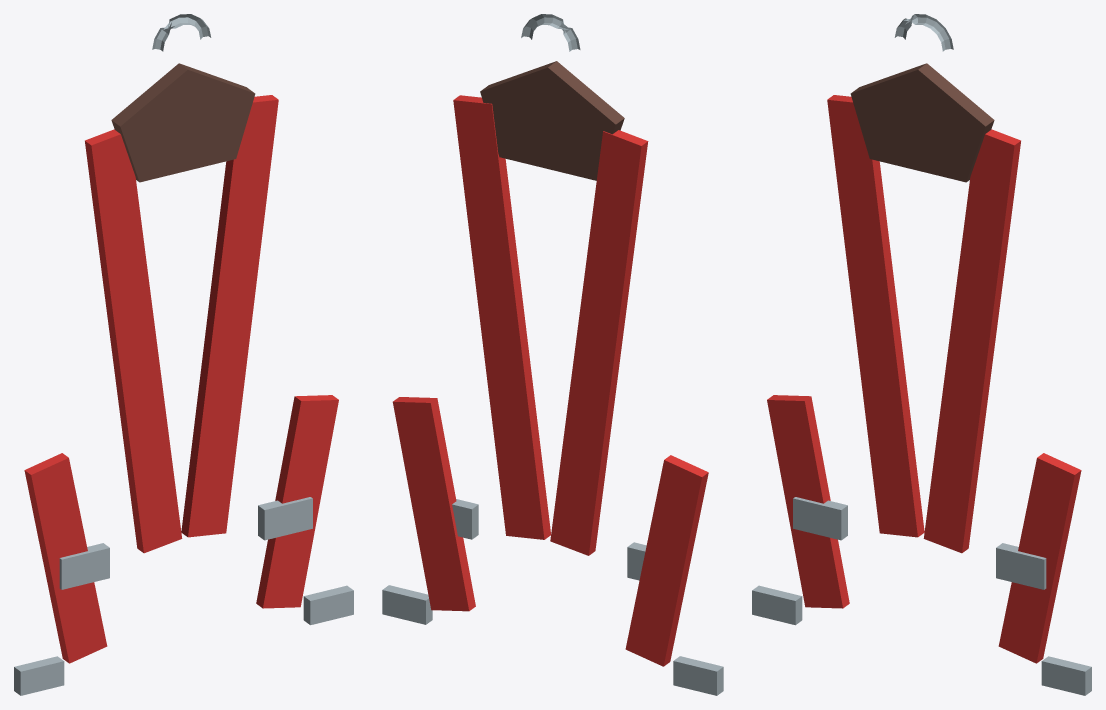
The model's file is hangslen.glb.
The picture shows the model from 3 angles, left to right: view 1: azimuth 30°, elevation 25°; view 2: azimuth 150°, elevation 25°; view 3: azimuth 330°, elevation 25°; orthographic projection.
Parts seen in each view (by area): view 1: hangslen; view 2: hangslen; view 3: hangslen.
Part boxes in pixels (bbox=[...]): hangslen: bbox=[14, 14, 353, 695]; hangslen: bbox=[382, 14, 723, 695]; hangslen: bbox=[752, 14, 1091, 695].
Bounding box in the file's own units: 0.345 × 0.6293 × 0.017.
